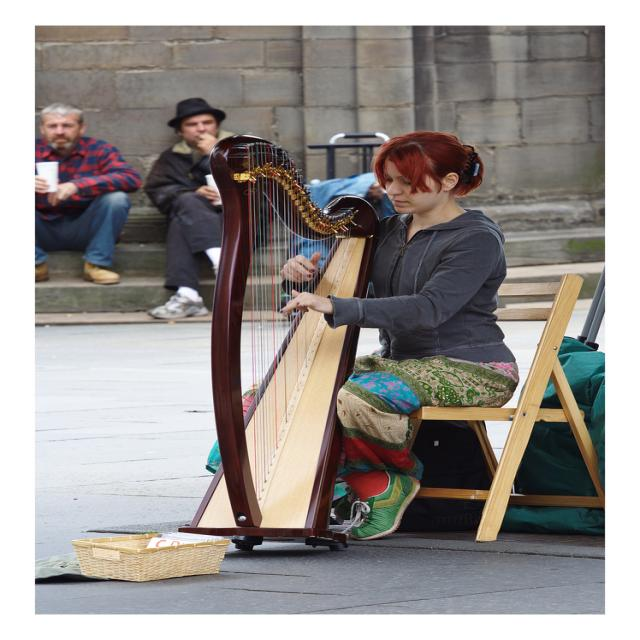harp: (176, 134, 378, 554)
